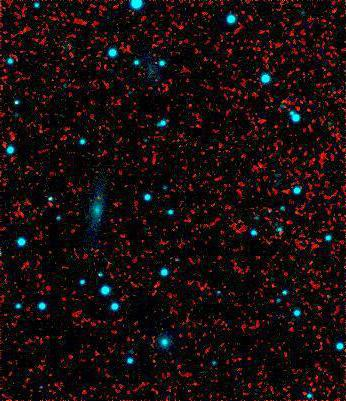star: (83, 205, 113, 235)
